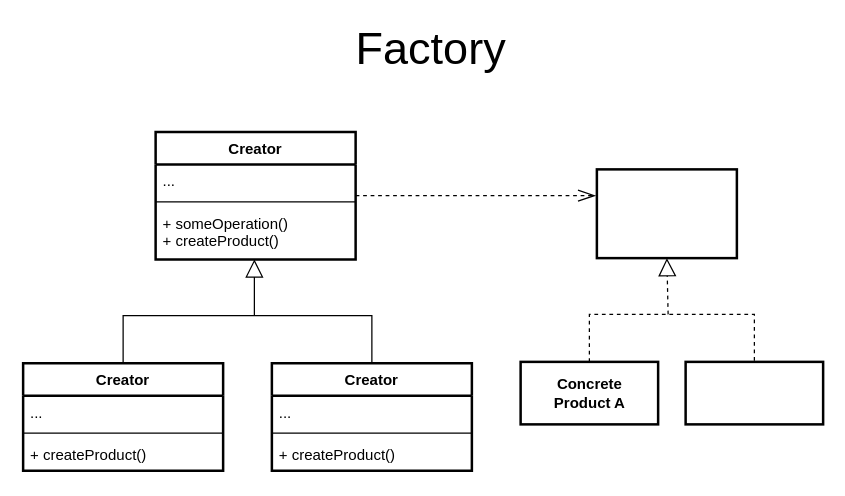
The diagram is 845 pixels wide and 496 high, and some of its shapes have lost their labels. Each missing label, with the box of its shape:
"Interface" Product + doStuff(): (595, 168, 738, 259)
Concrete Product B: (684, 360, 824, 425)
